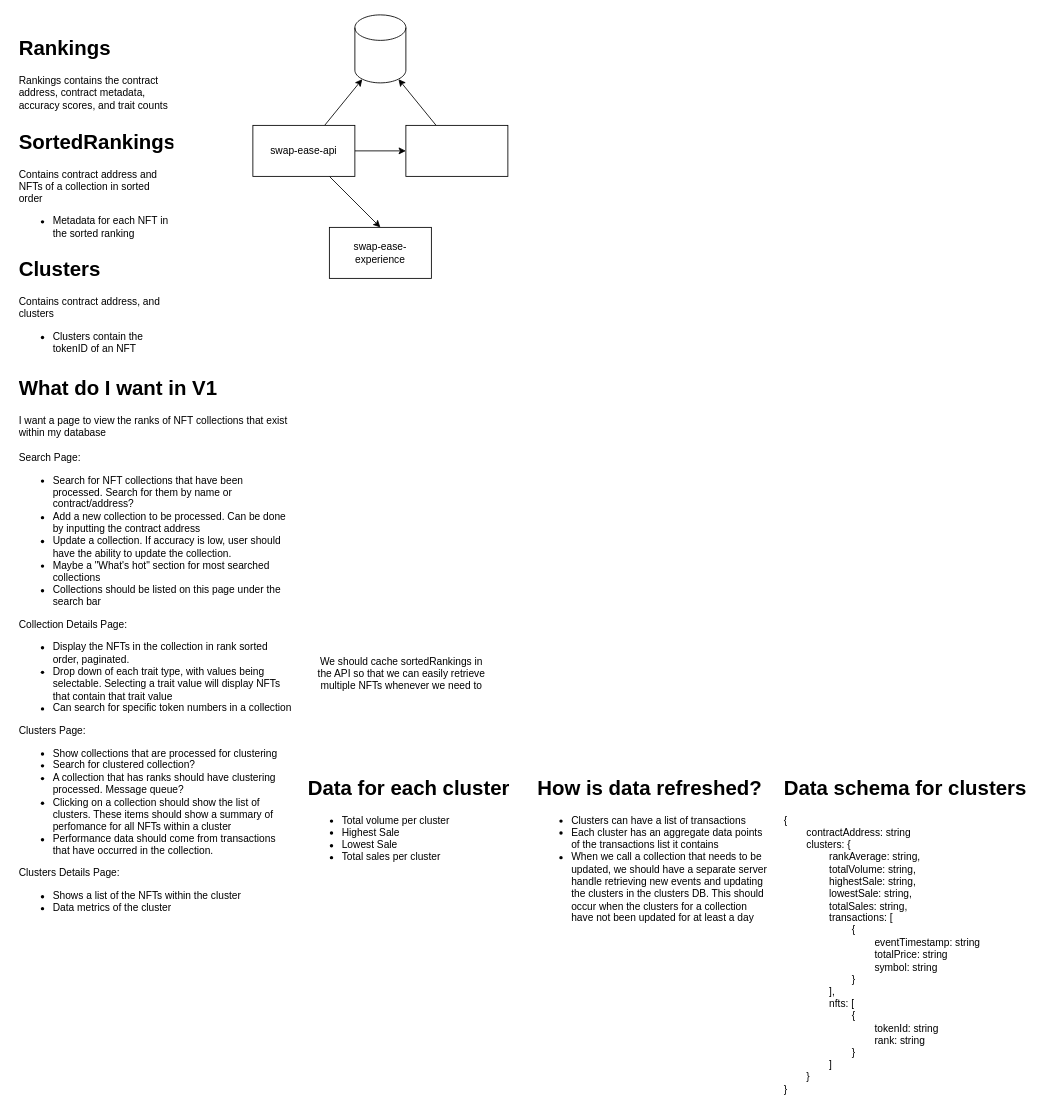
This 1057x1118 diagram has some shape labels left out. Each missing label, with the centre of its shape:
"mongo" belongs at (x=380, y=48).
"swap-ease-clusterin-api" belongs at (x=456, y=150).
